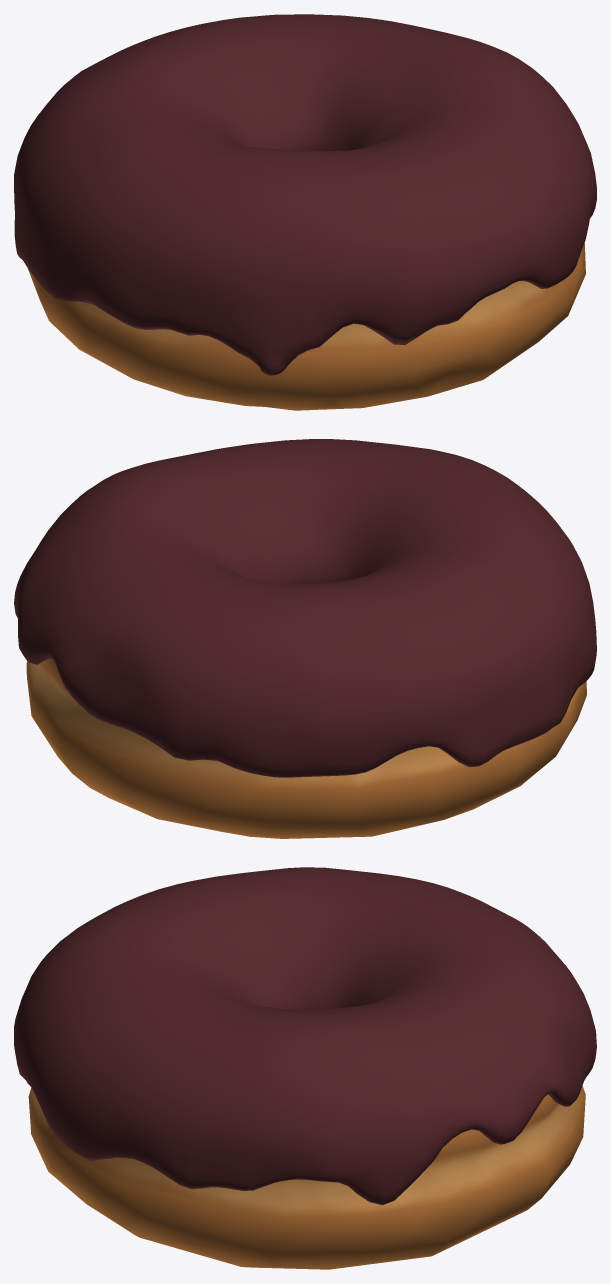
Rendered from donut.glb.
The picture shows the model from 3 angles, top to bottom: view 1: azimuth 30°, elevation 25°; view 2: azimuth 150°, elevation 25°; view 3: azimuth 270°, elevation 25°; orthographic projection.
Visible parts, largest first — view 1: Icing, Dough; view 2: Icing, Dough; view 3: Icing, Dough.
Boxes of the visible parts, bbox=[...] form: Icing: bbox=[14, 14, 596, 375]; Dough: bbox=[28, 243, 585, 410]; Icing: bbox=[14, 439, 596, 777]; Dough: bbox=[26, 658, 586, 838]; Icing: bbox=[14, 867, 596, 1205]; Dough: bbox=[28, 1085, 585, 1269].
Bounding box in the file's own units: 0.9991 × 0.453 × 1.
2 materials, 1 textured.
